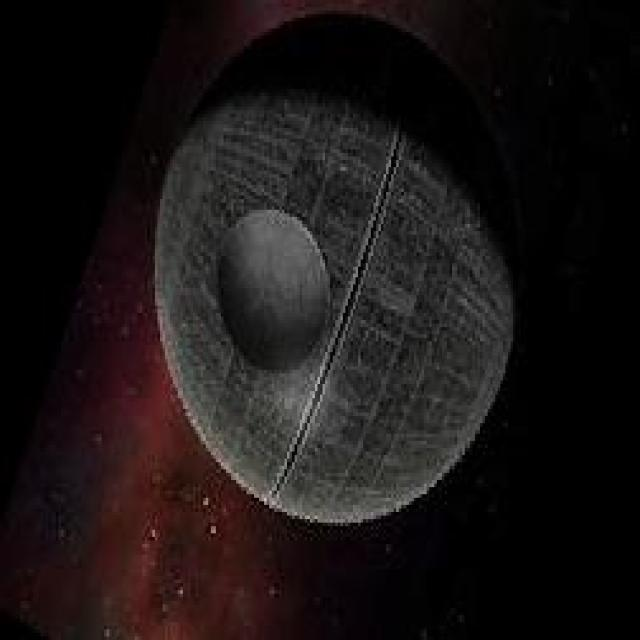Death Star: (147, 64, 521, 530)
